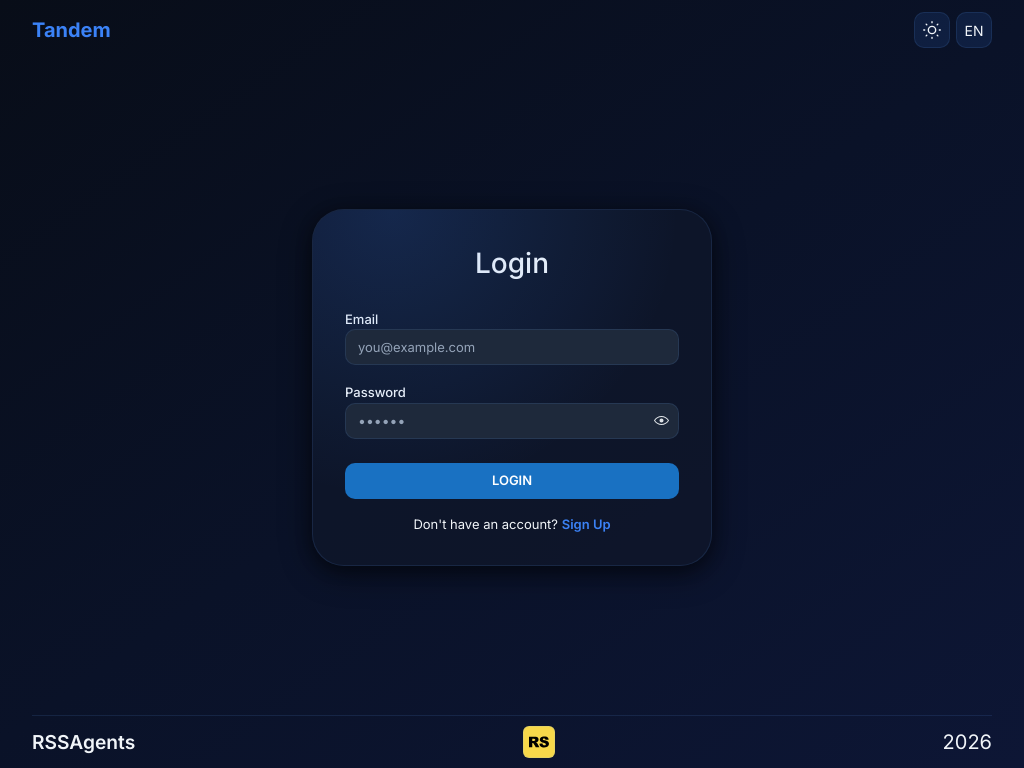
Scenario: Login Page › should show validation errors when fields are empty
Step 1. Click the submit button → click(512, 481), box [345,463,679,499]
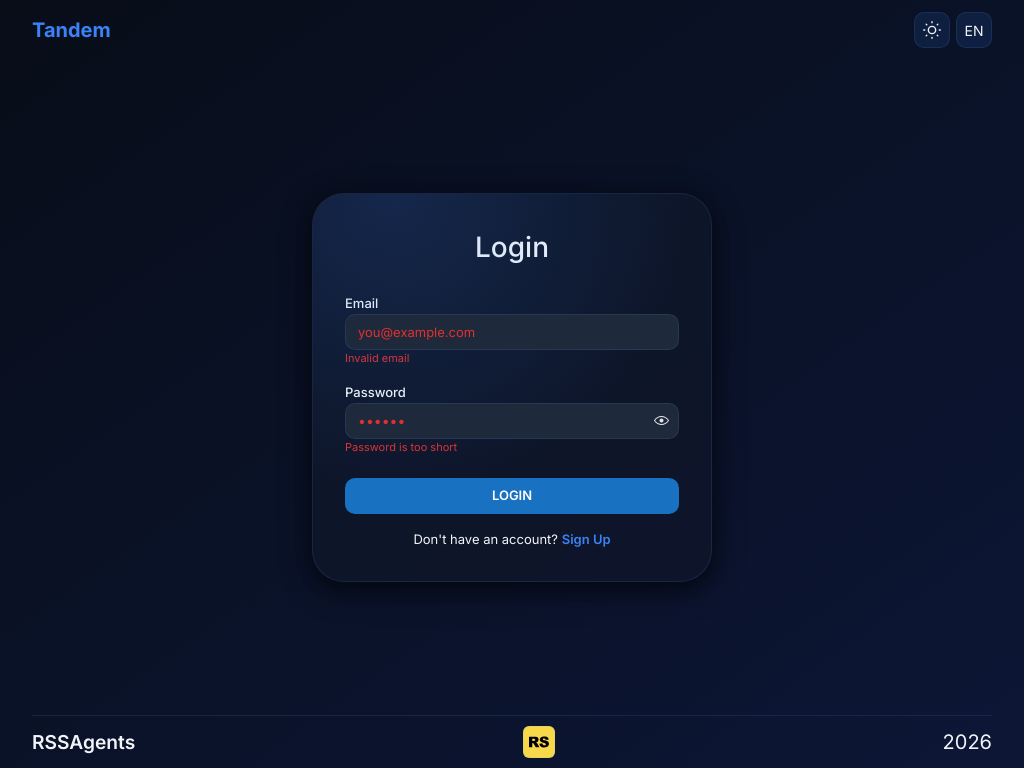
Now the text "Invalid email" is shown, box [345,351,409,365]
Now the text "Password is too short" is shown, box [345,440,457,454]
